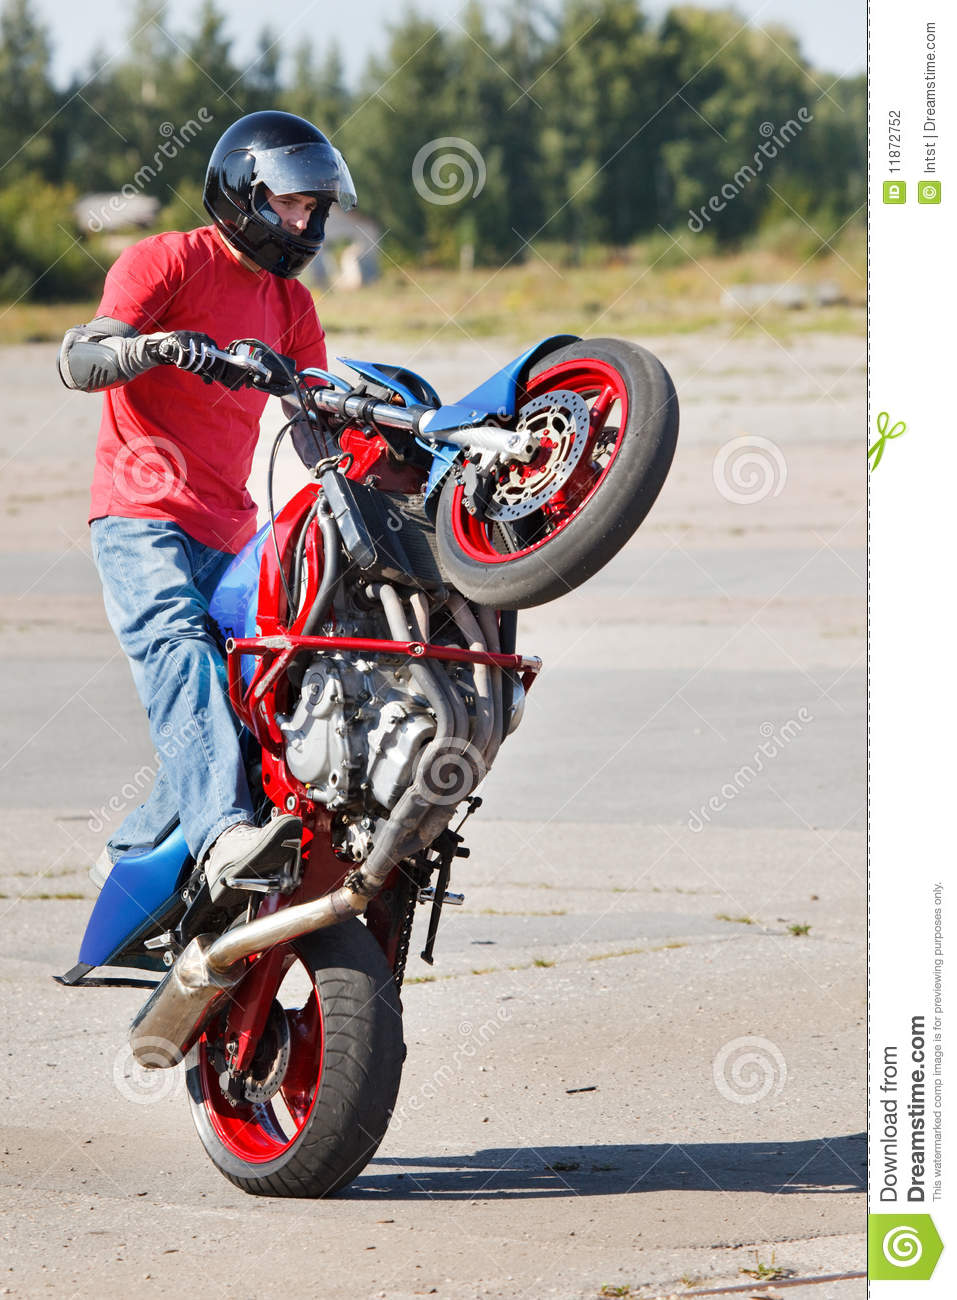helmet: (200, 113, 370, 291)
